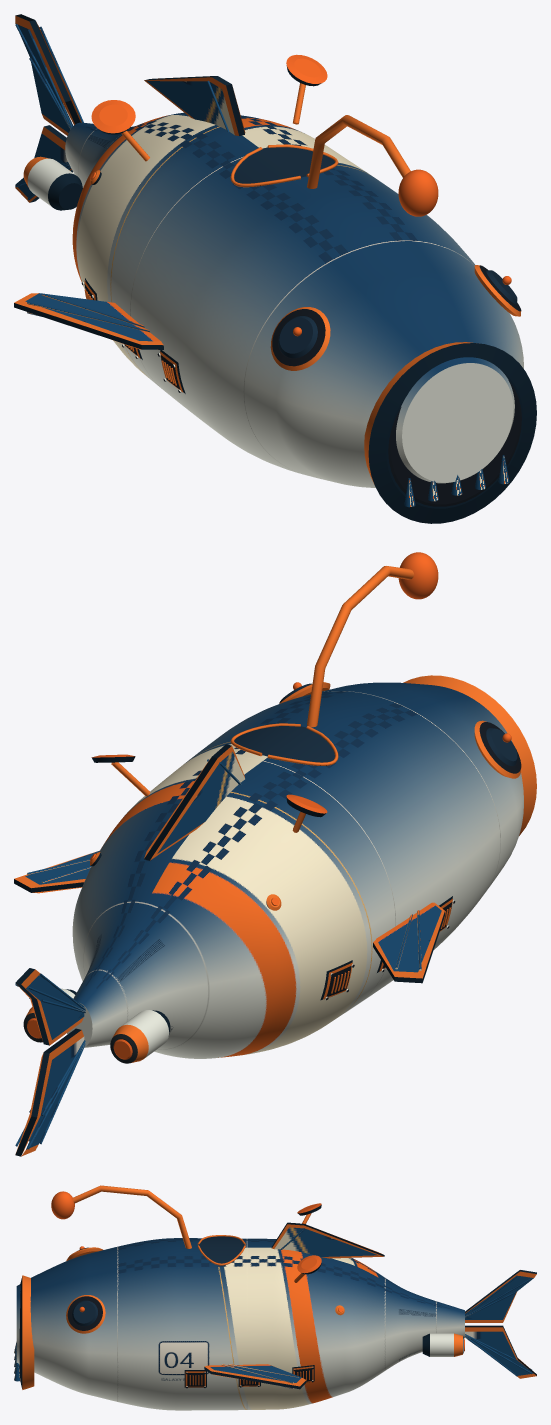
3 views of the same model, one above another, from view 1: azimuth 30°, elevation 25°; view 2: azimuth 150°, elevation 25°; view 3: azimuth 270°, elevation 25° (orthographic). The views are drawn at different scales.
Visible parts, largest first — view 1: anglerfish_hull; view 2: anglerfish_hull; view 3: anglerfish_hull.
Boxes of the visible parts, bbox=[...] form: anglerfish_hull: bbox=[14, 14, 536, 523]; anglerfish_hull: bbox=[14, 552, 536, 1156]; anglerfish_hull: bbox=[14, 1185, 536, 1410].
Bounding box in the file's own units: 9.08 × 7.72 × 17.
1 material, 1 textured.
